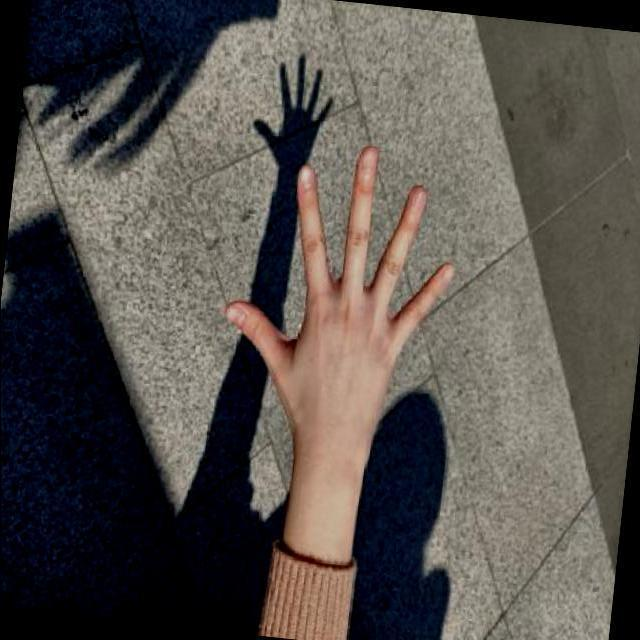hand: (203, 122, 480, 494)
